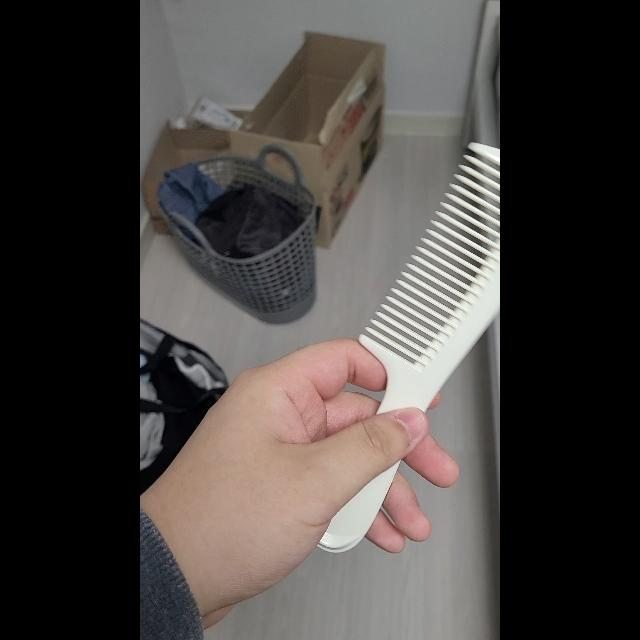COMB: (316, 143, 500, 553)
